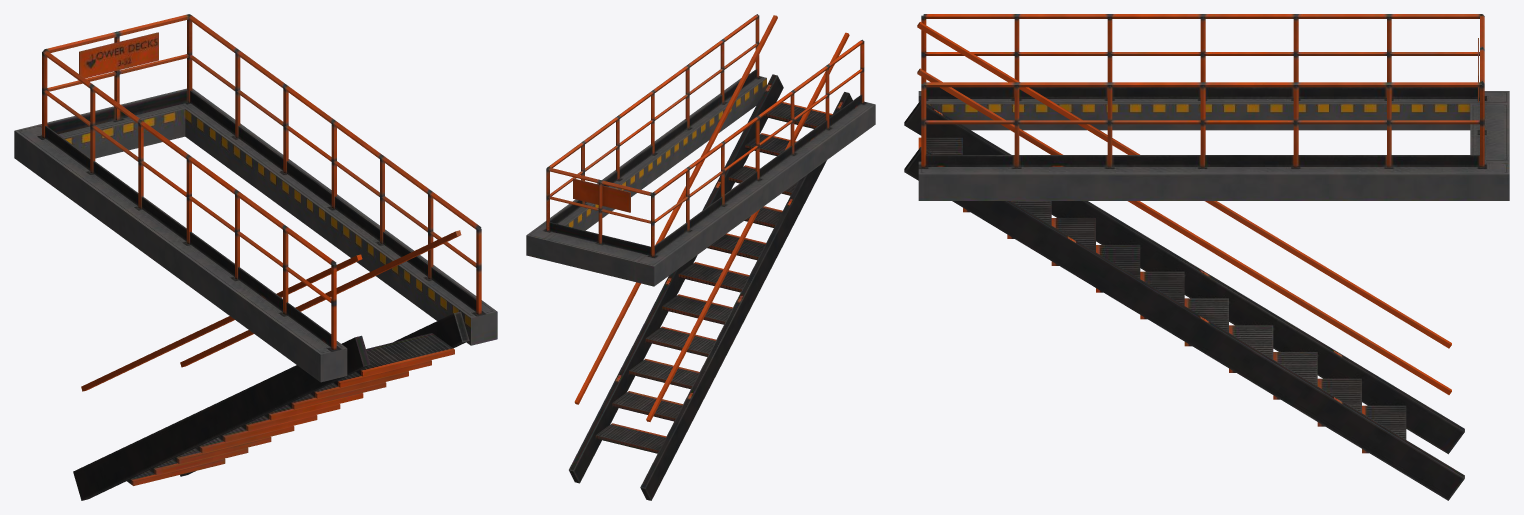
The model's file is stairwell.glb.
3 renders of one model, left to right at view 1: azimuth 30°, elevation 25°; view 2: azimuth 150°, elevation 25°; view 3: azimuth 270°, elevation 25°, orthographic. The views are drawn at different scales.
Visible parts, largest first — view 1: stairwell; view 2: stairwell; view 3: stairwell.
Part boxes in pixels (x1,y1,x2,y2): stairwell: [14, 14, 497, 500]; stairwell: [526, 14, 875, 500]; stairwell: [904, 14, 1509, 500].
Bounding box in the file's own units: 2 × 4.82 × 6.15.
Materials: 1 (1 with a texture image).
